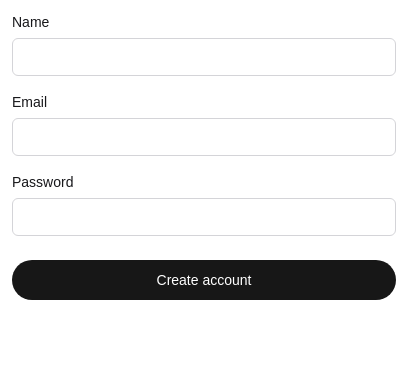
Test: RegisterForm › shows a clear error for a duplicate email without redirecting
This screenshot has width=413, height=373.
In the field labelled "Name": (204, 57) [12, 38, 396, 76], type "Ada Lovelace"
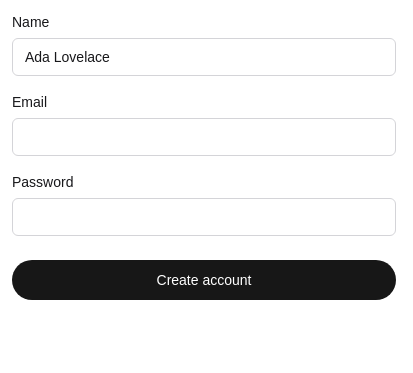
In the field labelled "Email": (204, 137) [12, 118, 396, 156], type "ada@example.com"
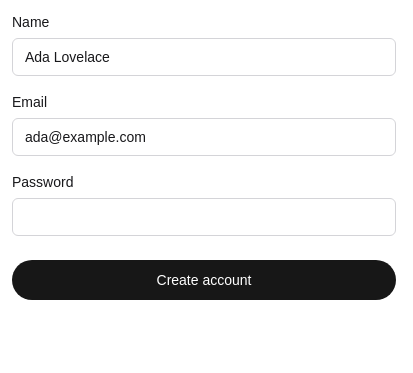
In the password field labelled "Password": (204, 217) [12, 198, 396, 236], type "correcthorse1"
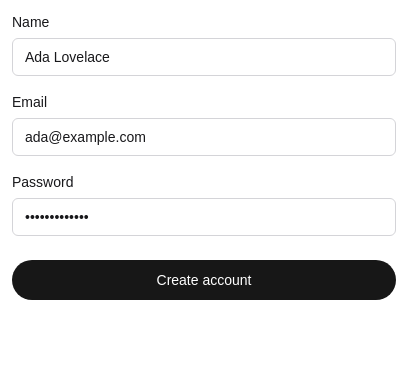
Click the button "Create account": (204, 280) [12, 260, 396, 300]
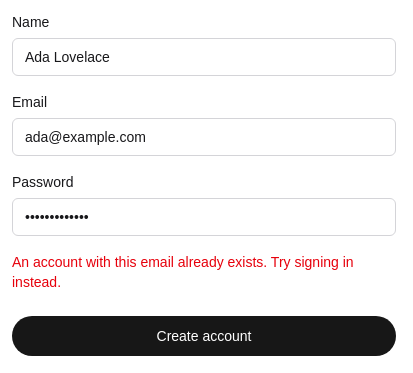
Result: the message reads "An account with this email already exists. Try signing in instead." at [12, 254, 354, 290]
